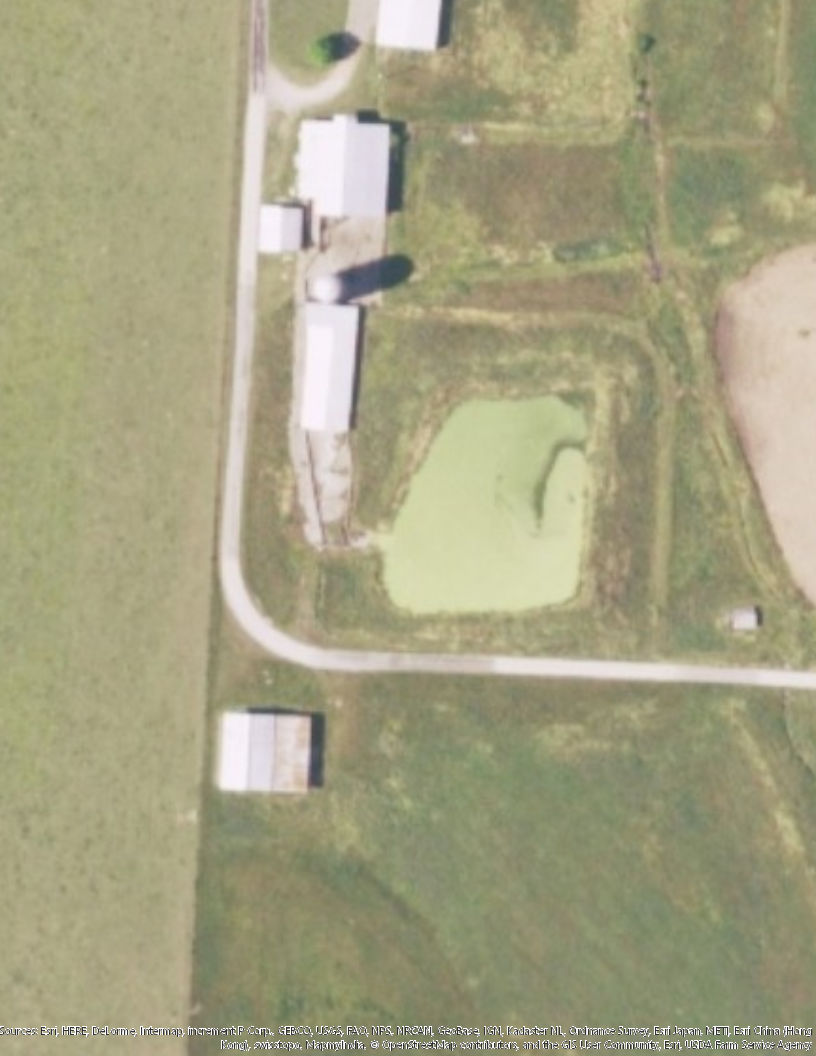cafo: (274, 101, 403, 233), (292, 269, 369, 437), (213, 696, 316, 799)
